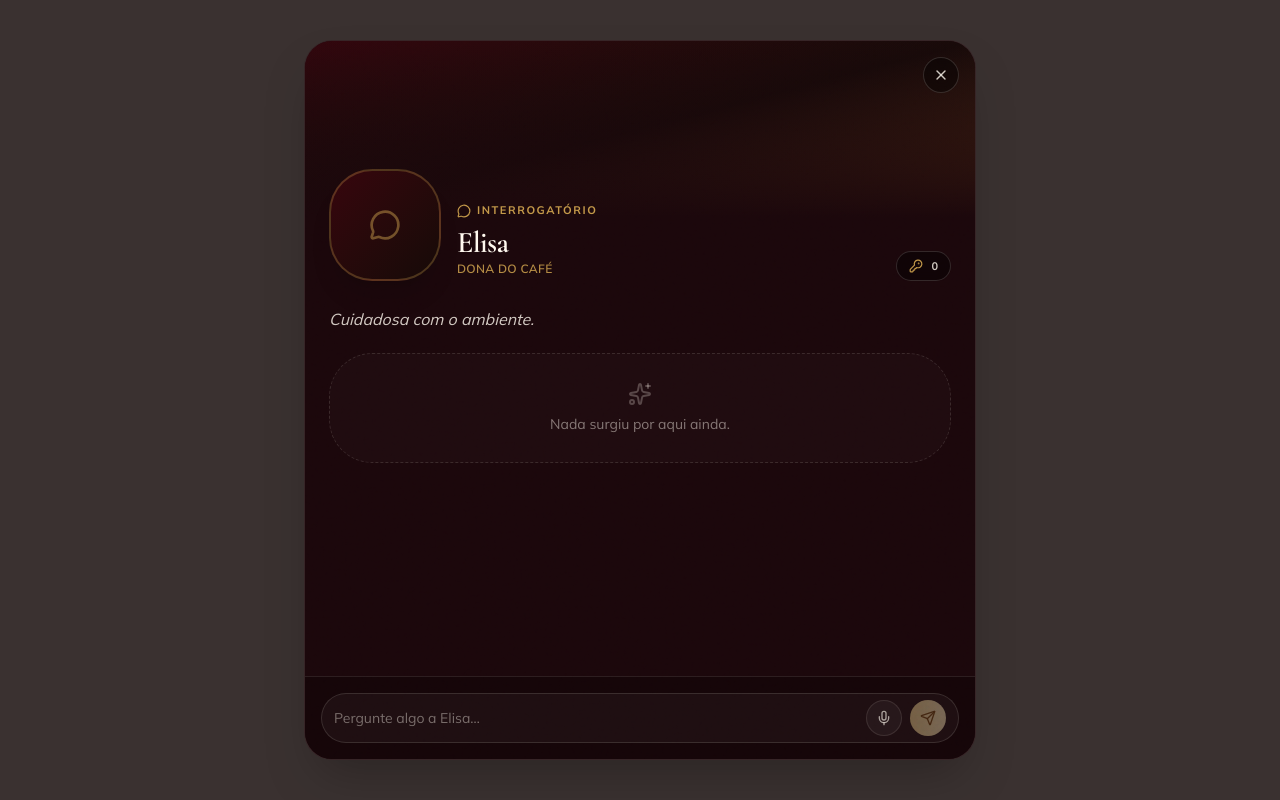
InvestigationPanel › shows an error when the request fails
This screenshot has width=1280, height=800.
In the field with placeholder "Pergunte algo a Elisa…": (596, 718) x1=334 y1=700 x2=858 y2=736, type "oi"
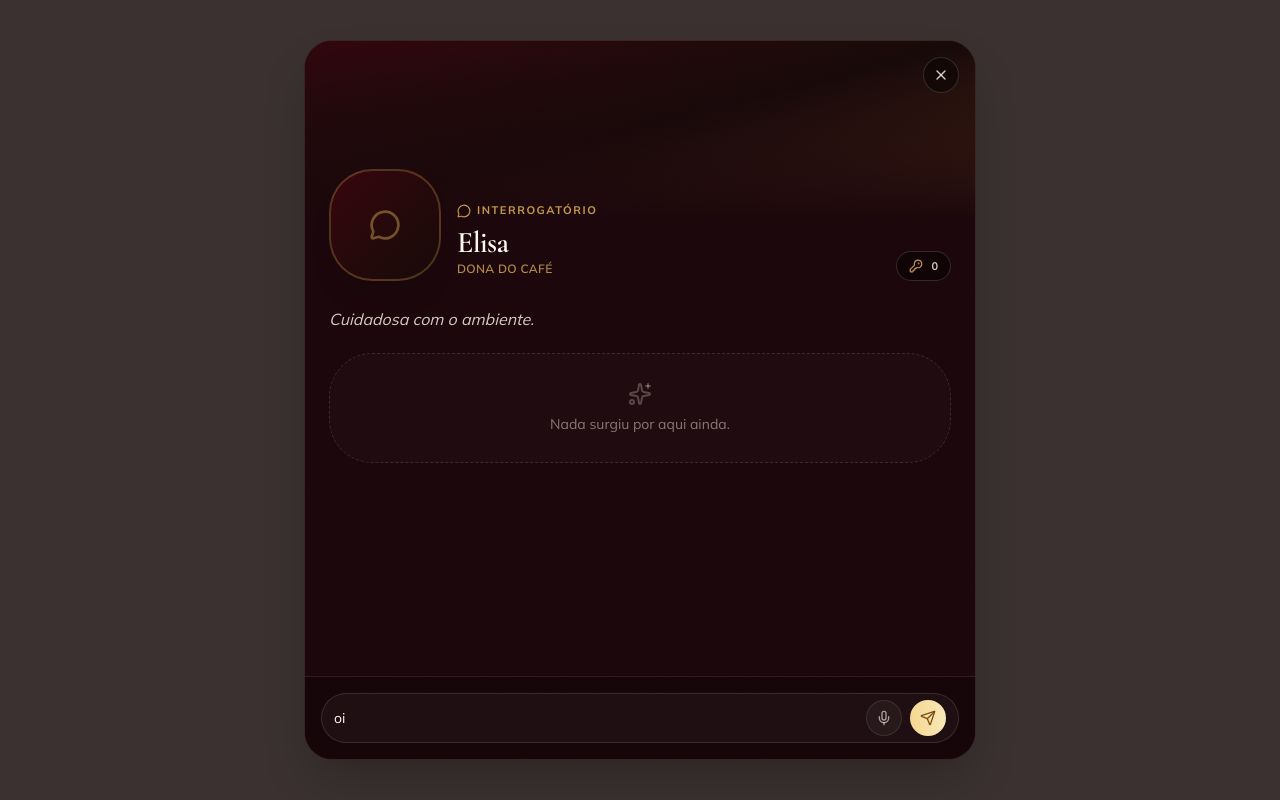
Click the button named "Enviar": (928, 718) x1=910 y1=700 x2=946 y2=736
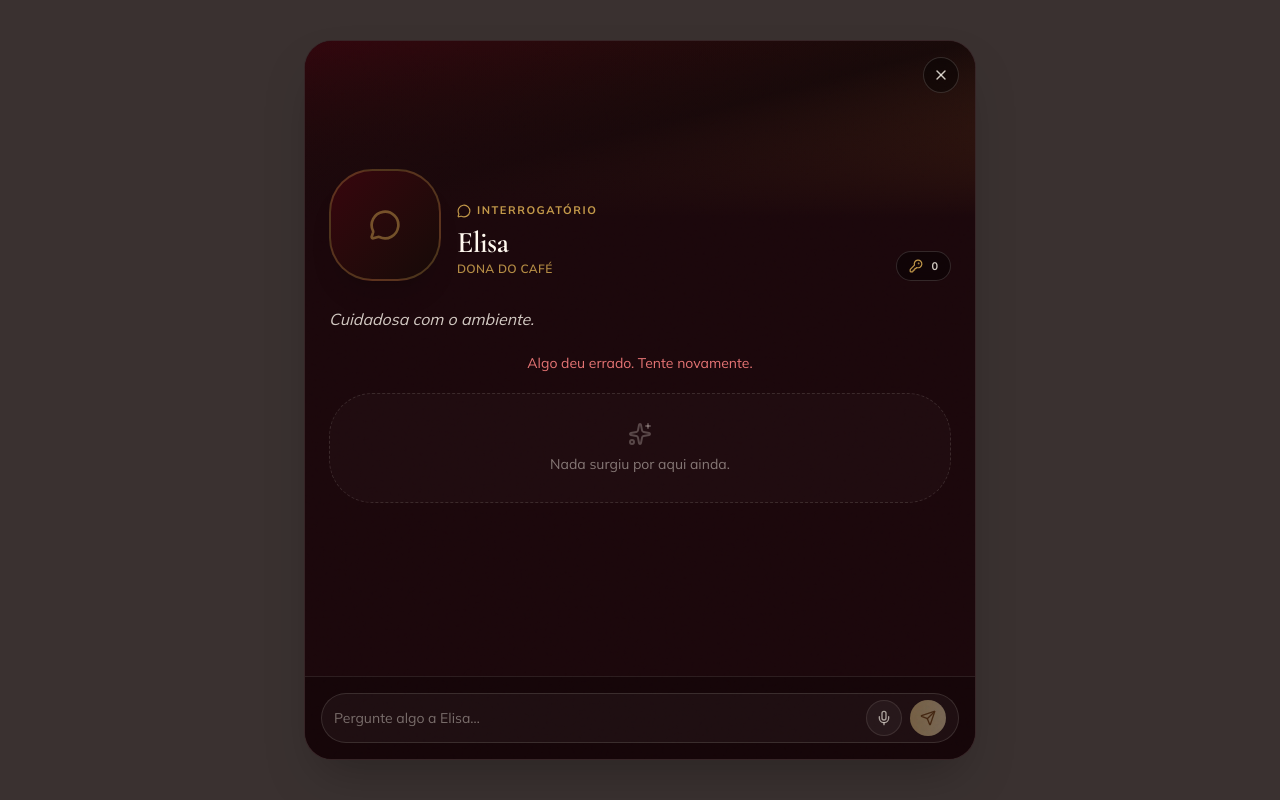
Check: the text "Algo deu errado. Tente novamente." is shown, box x1=527 y1=354 x2=753 y2=372
